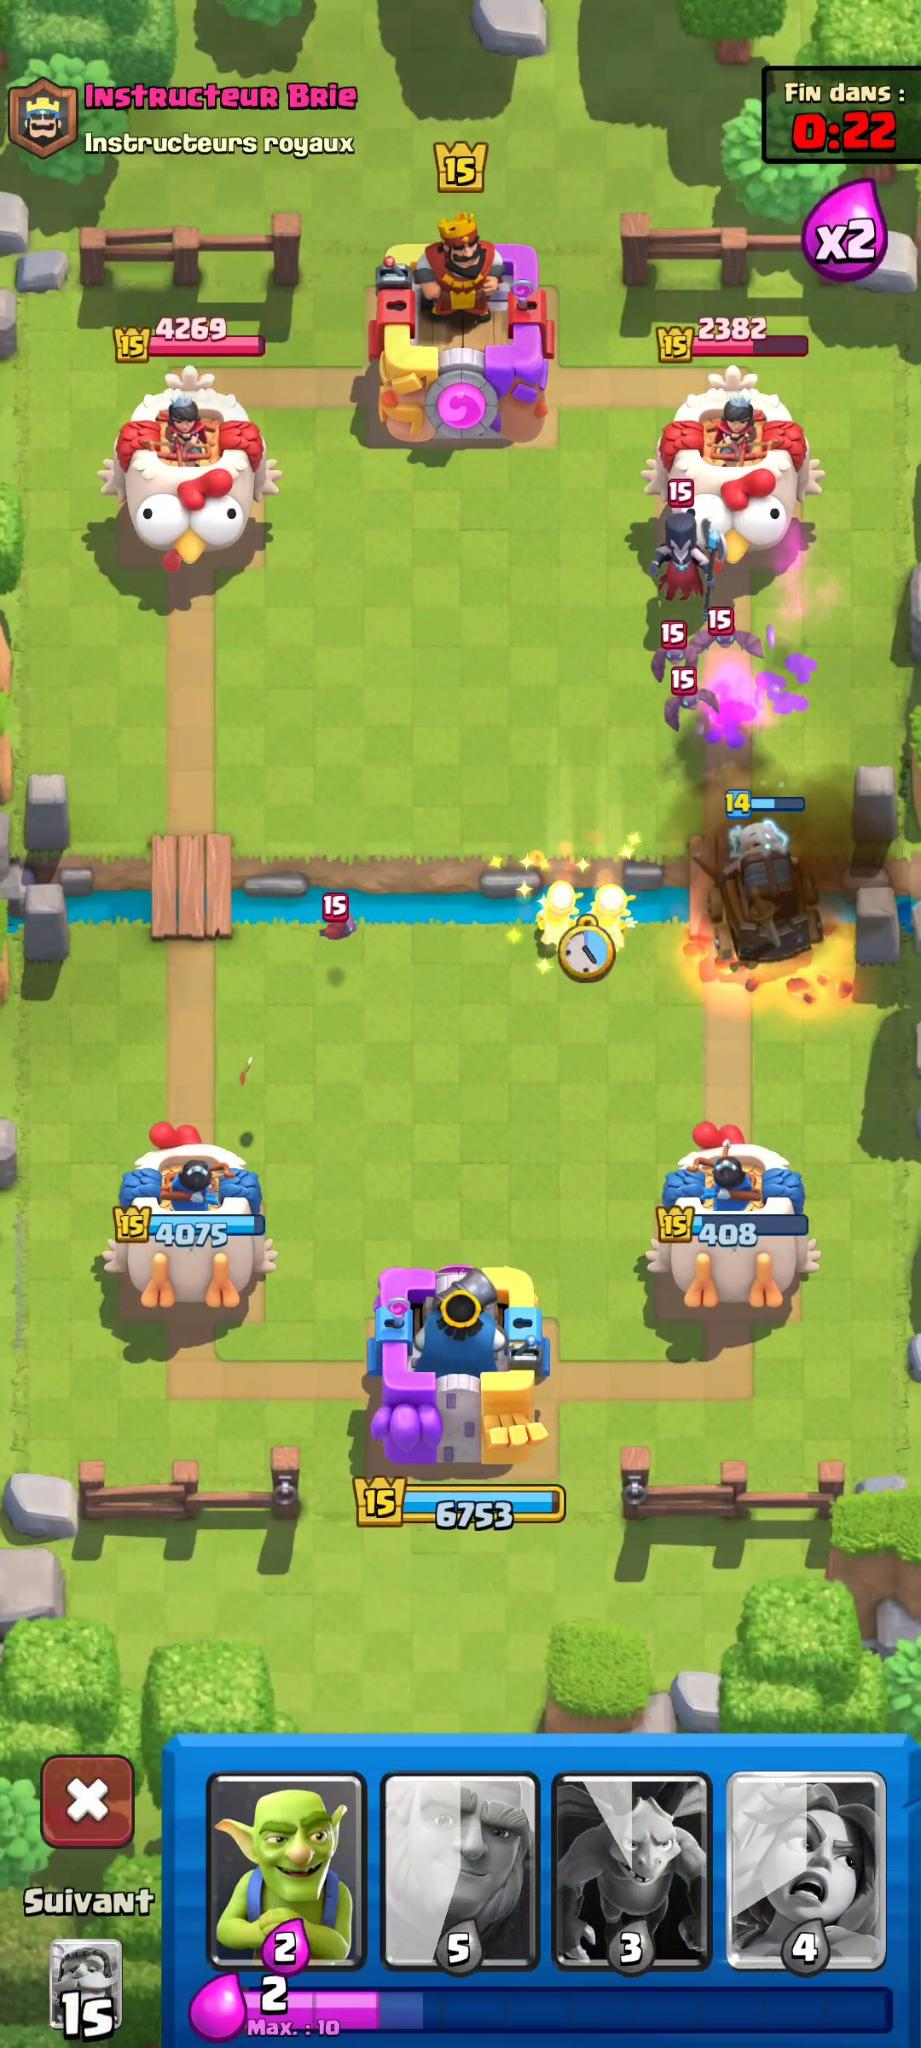archere: (524, 870, 587, 970), (590, 874, 656, 960)
bat: (660, 675, 726, 734), (688, 610, 758, 658), (644, 623, 700, 678), (315, 884, 372, 938)
zappy: (700, 808, 835, 977)
